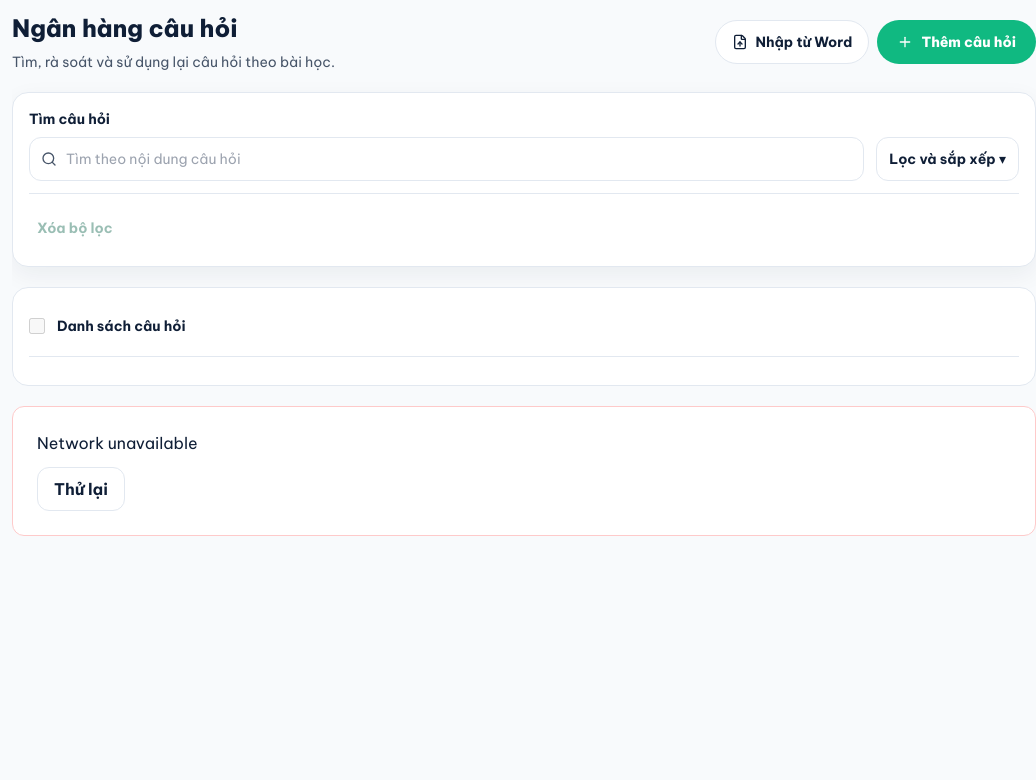
Test: Teacher Question Bank server list › separates server errors from an empty bank and supports retry
The width and height of the screenshot is (1036, 780).
Click the button "Thử lại": [81, 489] box top-left (37, 467), bottom-right (125, 511)
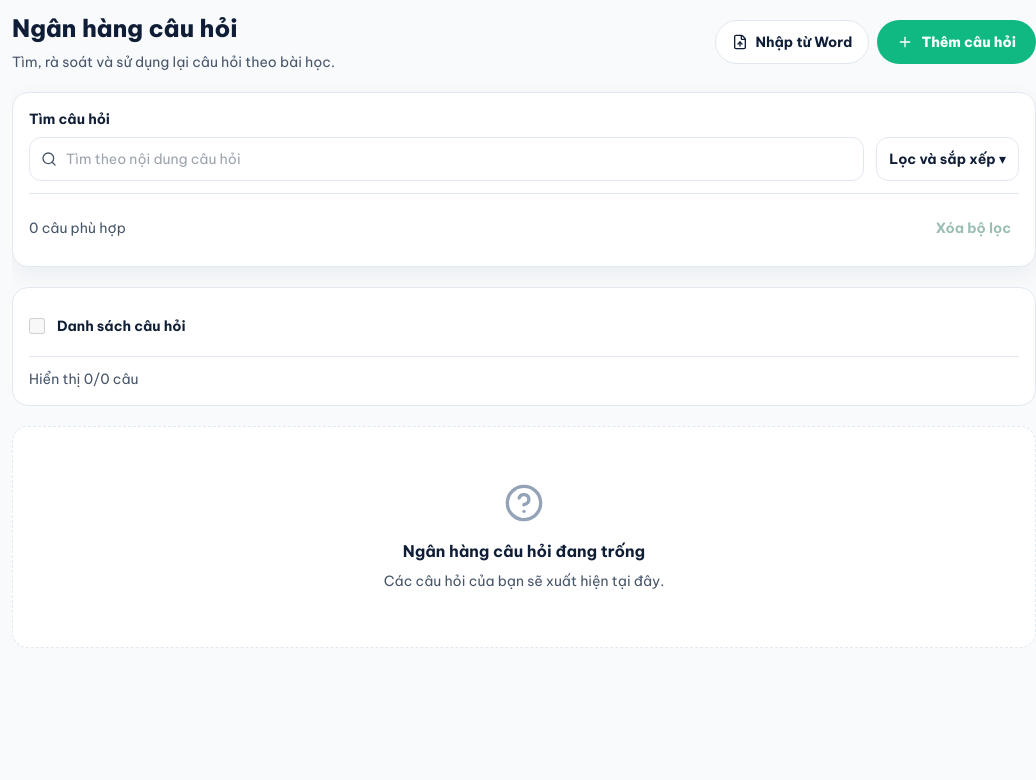
Now the text "Ngân hàng câu hỏi đang trống" is shown, box top-left (403, 541), bottom-right (645, 561)
